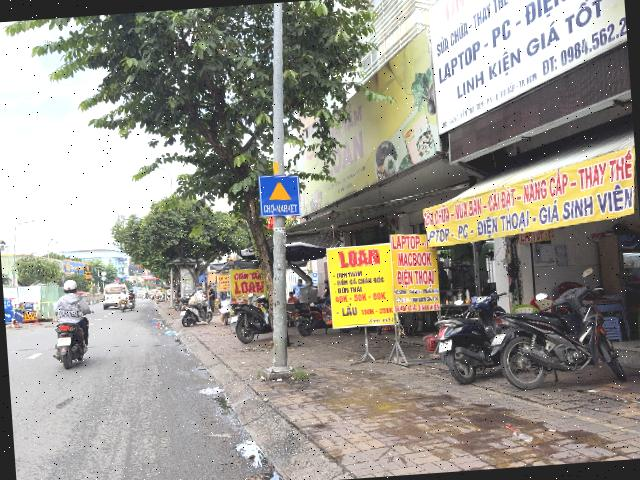khu-vuc-cho-phia-truoc: (258, 172, 300, 218)
